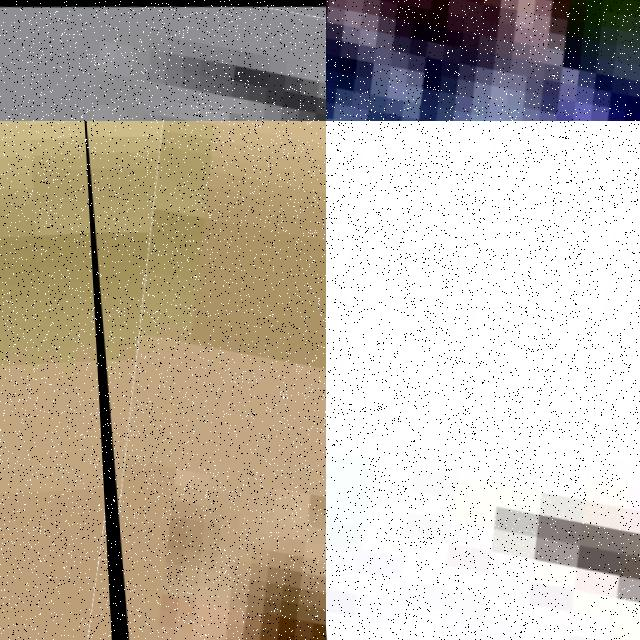drone: (326, 121, 640, 640), (81, 121, 326, 640), (0, 0, 326, 121), (326, 0, 640, 121)
